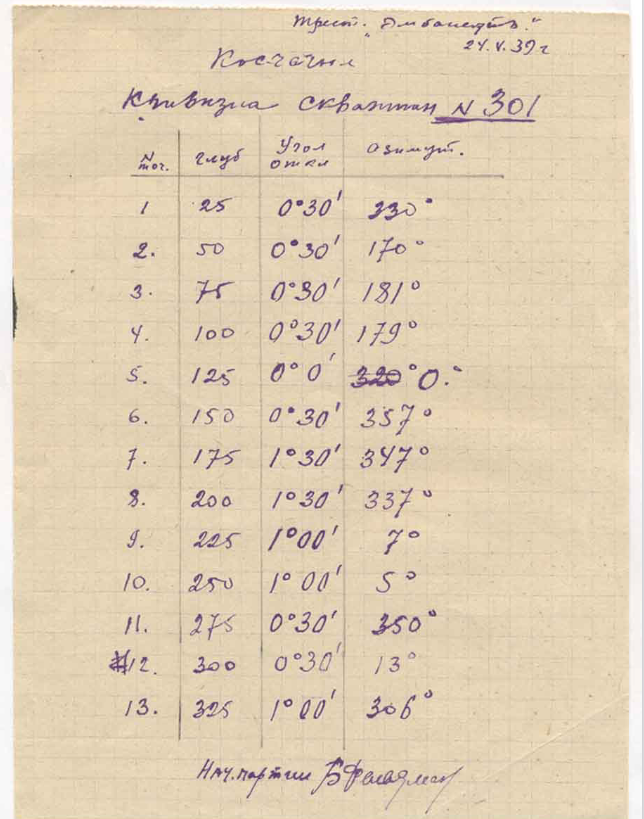Borderless: (115, 127, 500, 747)
